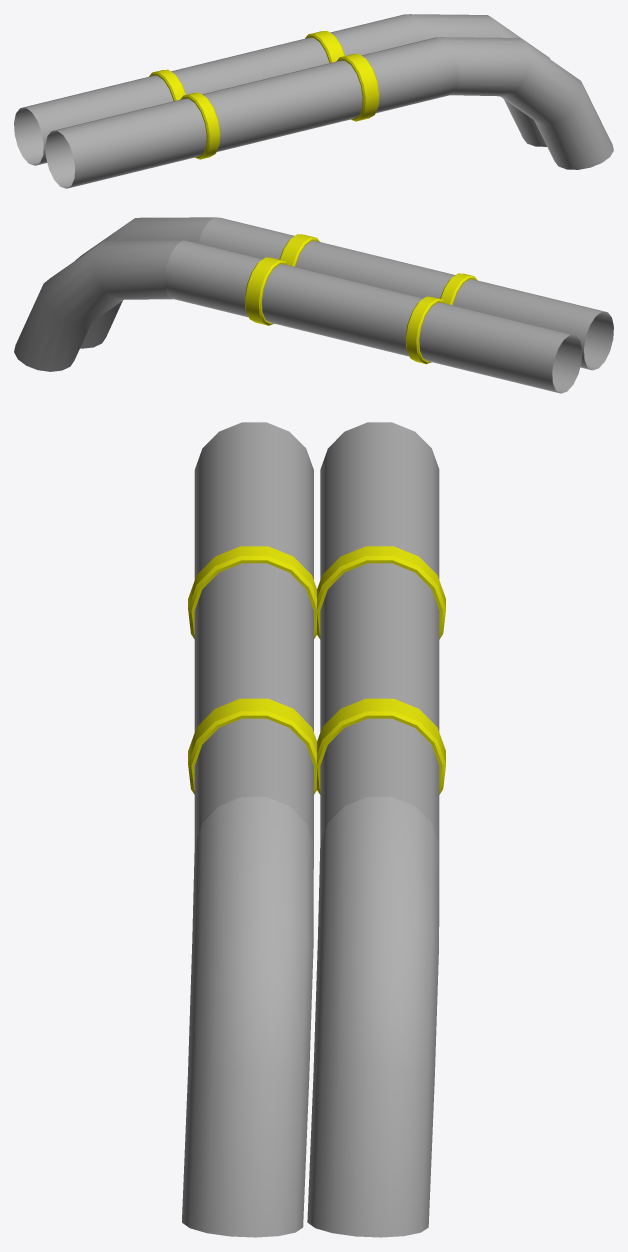
File: Pipping.fbx
The picture shows the model from 3 angles, top to bottom: view 1: azimuth 30°, elevation 25°; view 2: azimuth 150°, elevation 25°; view 3: azimuth 270°, elevation 25°; orthographic projection. The views are drawn at different scales.
Parts seen in each view (by area): view 1: Piping; view 2: Piping; view 3: Piping.
Part boxes in pixels (x1,y1,x2,y2): Piping: (14, 14, 613, 188); Piping: (14, 217, 613, 393); Piping: (182, 422, 445, 1237).
Size of the model in its own units: 11.79 by 3.2 by 2.47.
